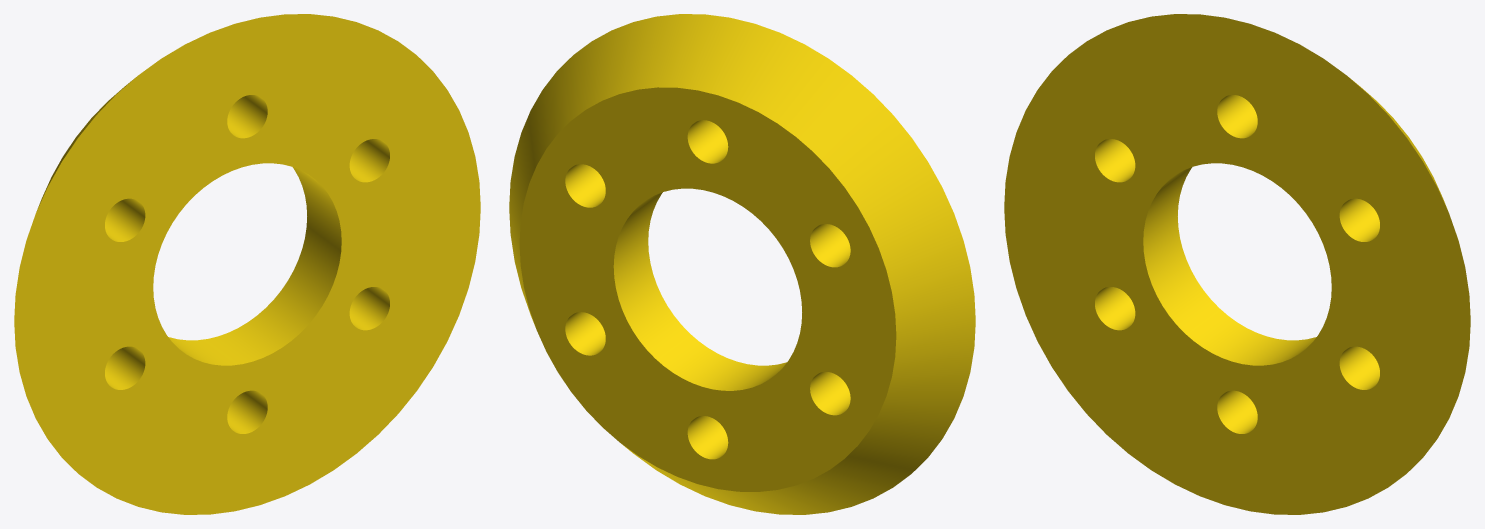
The model's file is A26_E111_bicepMotorSpacer.gltf.
3 renders of one model, left to right at view 1: azimuth 30°, elevation 25°; view 2: azimuth 150°, elevation 25°; view 3: azimuth 330°, elevation 25°, orthographic.
Visible parts, largest first — view 1: mesh36156, mesh36155, mesh36159, mesh36162, mesh36160, mesh36163, mesh36158, mesh36161; view 2: mesh36157, mesh36164, mesh36155, mesh36162, mesh36163, mesh36158, mesh36161, mesh36160, mesh36159; view 3: mesh36156, mesh36155, mesh36159, mesh36162, mesh36158, mesh36161, mesh36160, mesh36163.
Boxes of the visible parts, x1=… form: mesh36156: x1=14, y1=14, x2=480, y2=514; mesh36155: x1=168, y1=167, x2=341, y2=365; mesh36159: x1=227, y1=390, x2=267, y2=433; mesh36162: x1=227, y1=95, x2=267, y2=138; mesh36160: x1=105, y1=346, x2=145, y2=389; mesh36163: x1=349, y1=139, x2=389, y2=182; mesh36158: x1=349, y1=287, x2=389, y2=330; mesh36161: x1=105, y1=198, x2=145, y2=241; mesh36157: x1=519, y1=87, x2=896, y2=491; mesh36164: x1=509, y1=14, x2=975, y2=514; mesh36155: x1=613, y1=192, x2=786, y2=390; mesh36162: x1=687, y1=120, x2=728, y2=163; mesh36163: x1=565, y1=164, x2=605, y2=207; mesh36158: x1=565, y1=312, x2=605, y2=355; mesh36161: x1=810, y1=224, x2=850, y2=267; mesh36160: x1=810, y1=372, x2=850, y2=415; mesh36159: x1=687, y1=416, x2=728, y2=459; mesh36156: x1=1004, y1=14, x2=1470, y2=514; mesh36155: x1=1143, y1=167, x2=1316, y2=365; mesh36159: x1=1217, y1=390, x2=1257, y2=433; mesh36162: x1=1217, y1=95, x2=1257, y2=138; mesh36158: x1=1339, y1=346, x2=1379, y2=389; mesh36161: x1=1095, y1=139, x2=1135, y2=182; mesh36160: x1=1095, y1=287, x2=1135, y2=330; mesh36163: x1=1339, y1=198, x2=1379, y2=241.
Size of the model in its own units: 0.0495 by 0.0495 by 0.00635.
